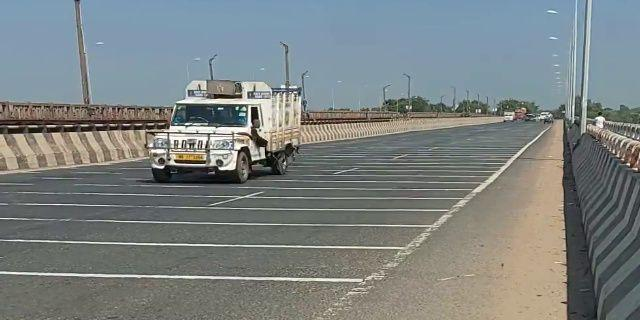Minitruck: (144, 74, 304, 183)
